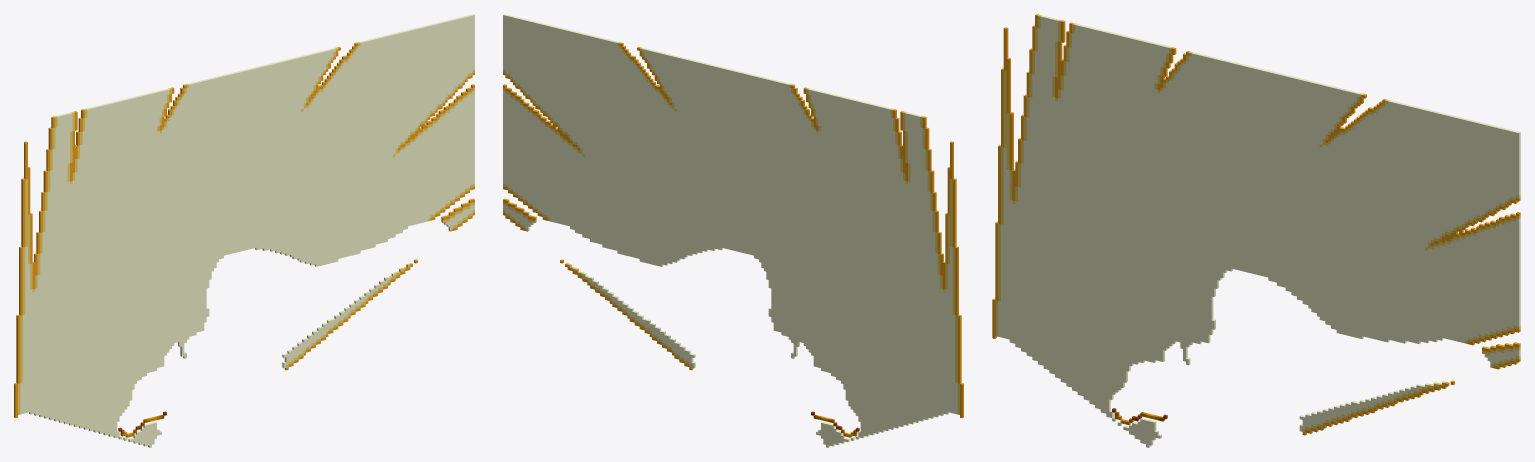
Rendered from Fight_201_2_07_fx.obj.
The picture shows the model from 3 angles, left to right: view 1: azimuth 30°, elevation 25°; view 2: azimuth 150°, elevation 25°; view 3: azimuth 330°, elevation 25°; orthographic projection. The views are drawn at different scales.
Bounding box in the file's own units: 18.5 × 13.6 × 0.1.
1 material, 1 textured.
